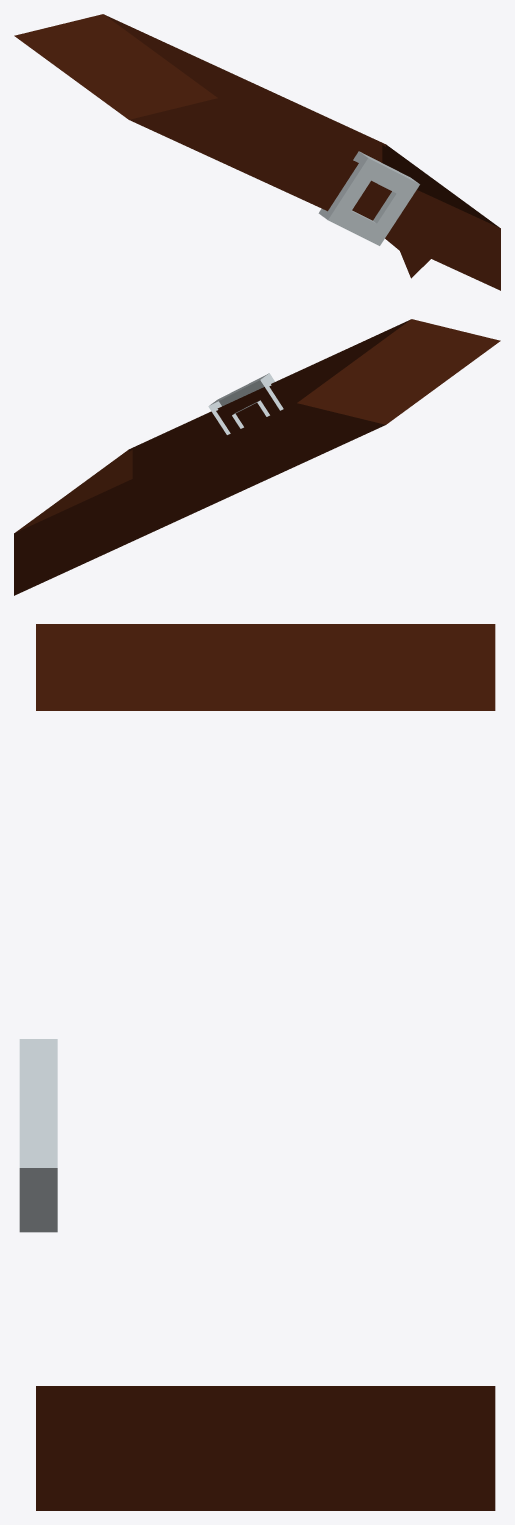
The model's file is Sling 01.FBX.
3 renders of one model, top to bottom at view 1: azimuth 30°, elevation 25°; view 2: azimuth 150°, elevation 25°; view 3: azimuth 270°, elevation 25°, orthographic. The views are drawn at different scales.
Parts seen in each view (by area): view 1: Sling 01; view 2: Sling 01; view 3: Sling 01.
Part boxes in pixels (bbox=[...]): Sling 01: bbox=[14, 14, 500, 290]; Sling 01: bbox=[14, 319, 500, 595]; Sling 01: bbox=[19, 624, 495, 1510].
Bounding box in the file's own units: 46.39 × 31.19 × 25.67.
